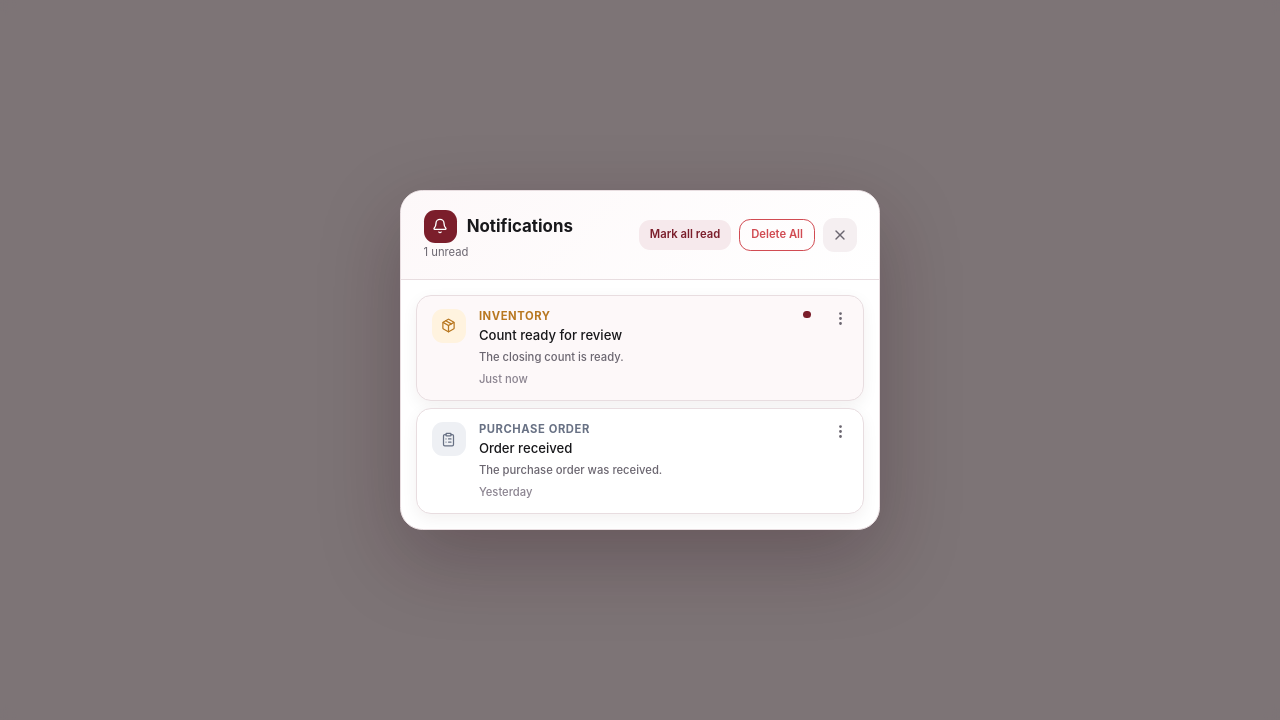
Test: notification deletion controls › deletes one item and updates the unread count immediately
The image size is (1280, 720).
Click the button named "Actions for Count ready for review": (840, 318) [826,304,856,334]
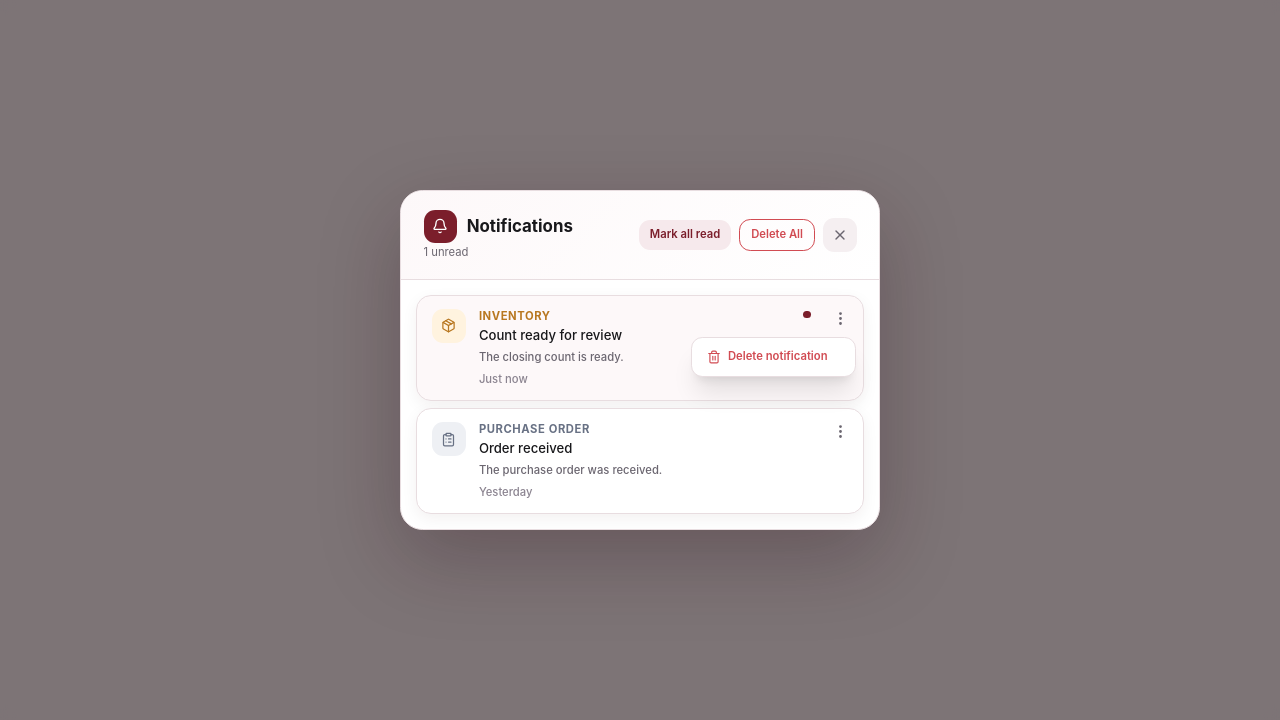
Click the button "Delete notification": (773, 357) [695,342,851,372]
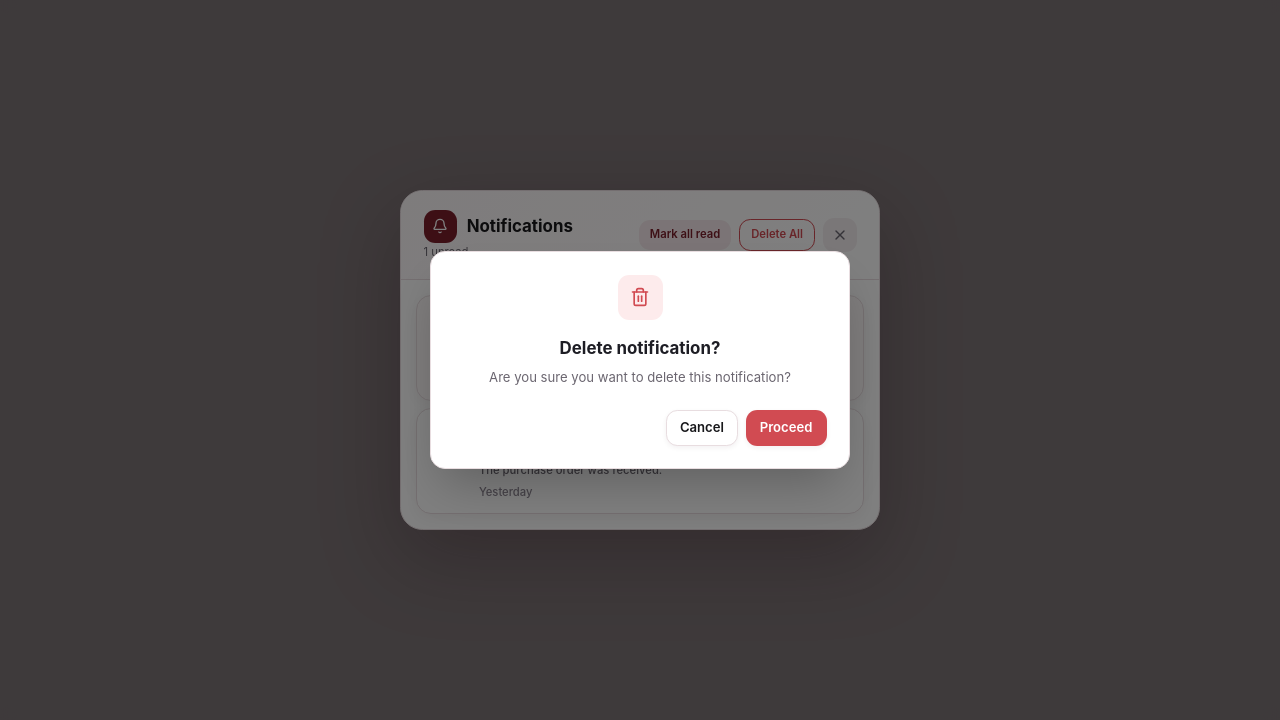
Click the button "Proceed": (786, 428) [746,410,826,446]
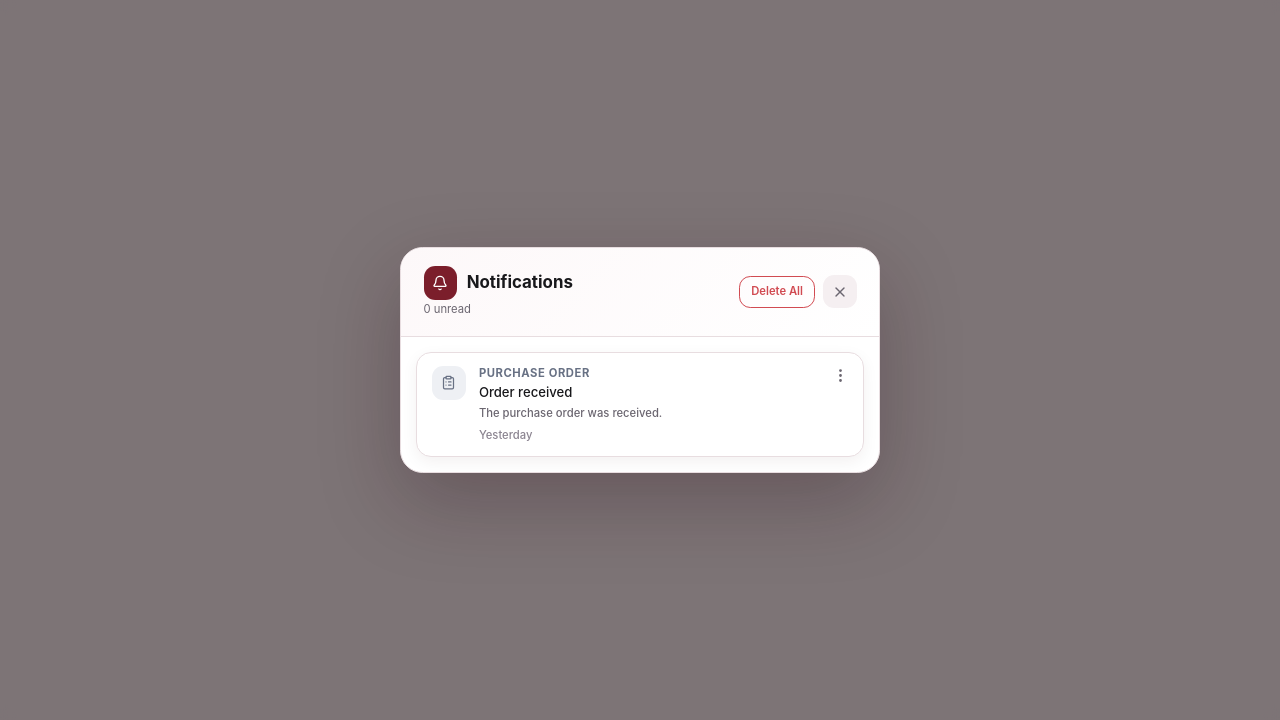
Expected: the text "Count ready for review" is gone
Expected: the text "0 unread" is shown, [424,302,471,316]
